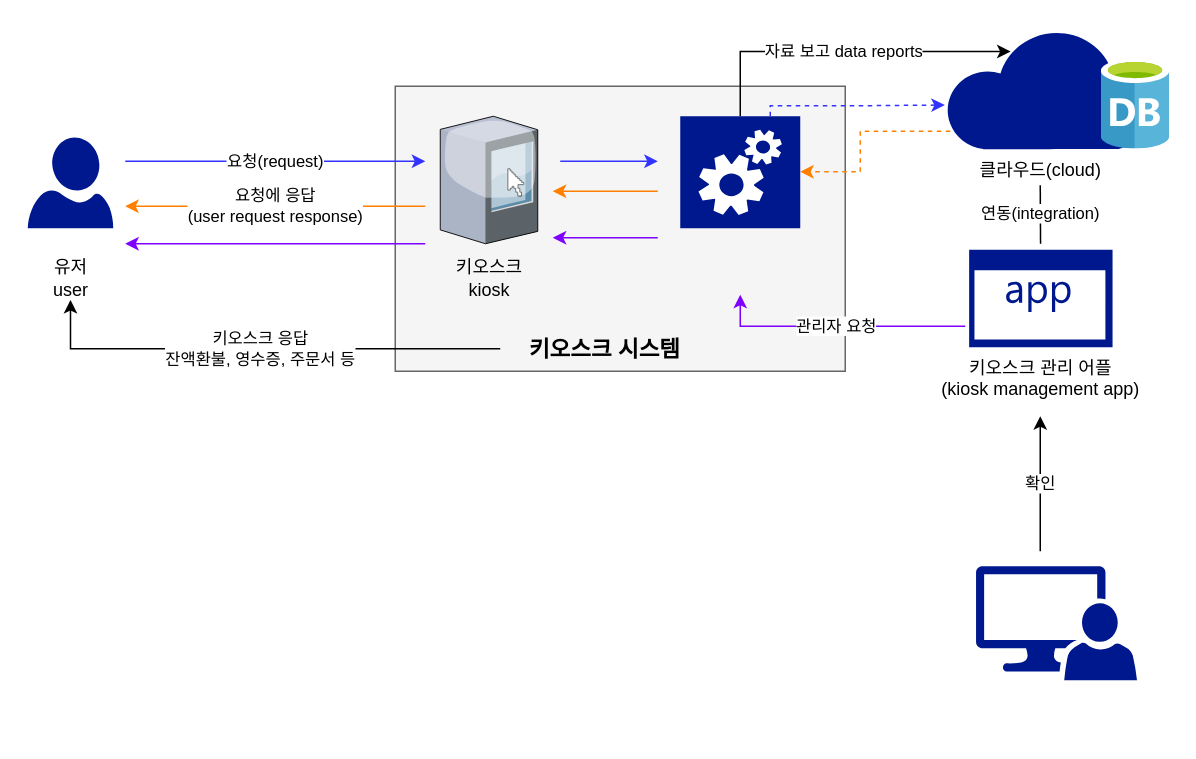
The diagram is 1196 pixels wide and 759 high, and some of its shapes have lost their labels. Each missing label, with the centre of its shape:
관리자 (admin): [1055,623]
제어용 소프트웨어 (controller software): [740,172]
